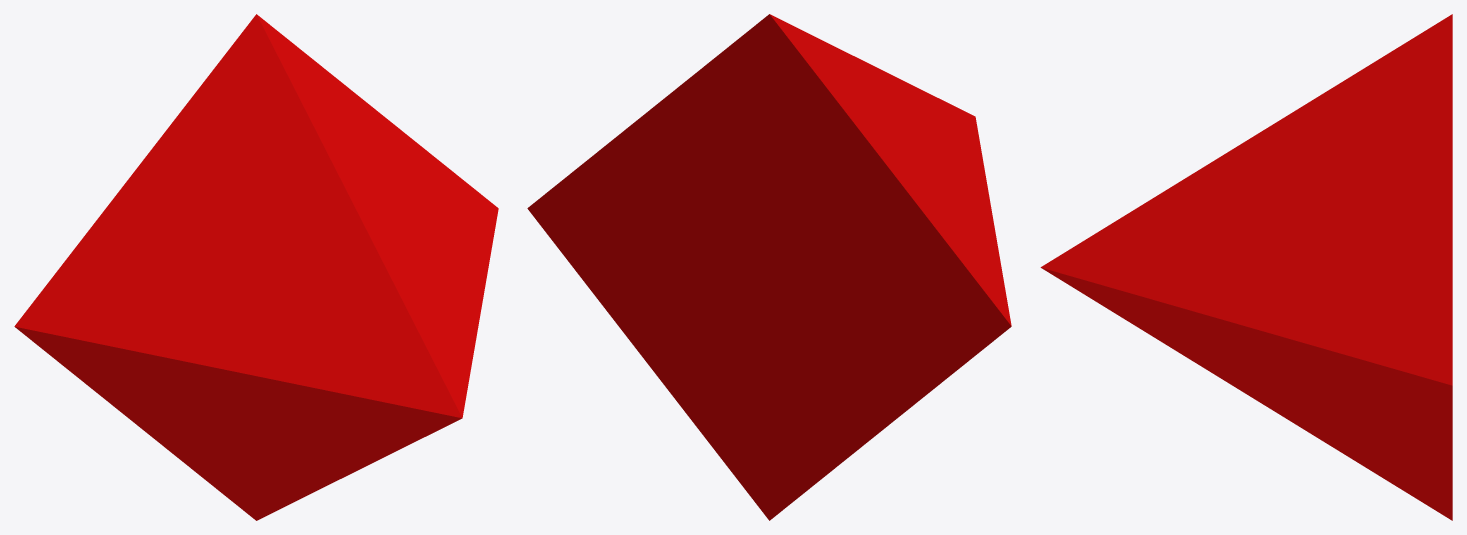
File: Enemy.fbx
3 views of the same model, side by side, from view 1: azimuth 30°, elevation 25°; view 2: azimuth 150°, elevation 25°; view 3: azimuth 270°, elevation 25° (orthographic).
Visible parts, largest first — view 1: pPyramid1; view 2: pPyramid1; view 3: pPyramid1.
Boxes of the visible parts, x1,y1,x2,y2 form: pPyramid1: (14,14,498,520); pPyramid1: (527,14,1011,520); pPyramid1: (1040,14,1452,520).
Bounding box in the file's own units: 0.9597 × 0.9597 × 0.7071.
